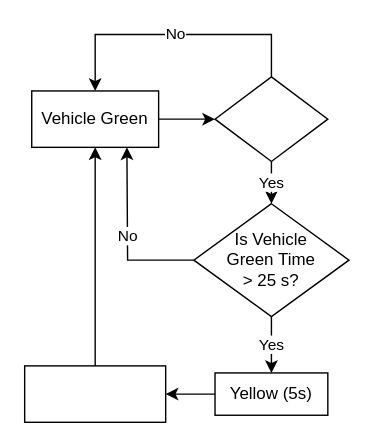
The diagram is 374 pixels wide and 447 high, and some of its shapes have lost their labels. The box of each missing label's shape, as (x1, y1, x2, y2) in pixels:
Is button pressed?: (214, 75, 328, 161)
Pedestrian Green (25s): (23, 364, 166, 422)
